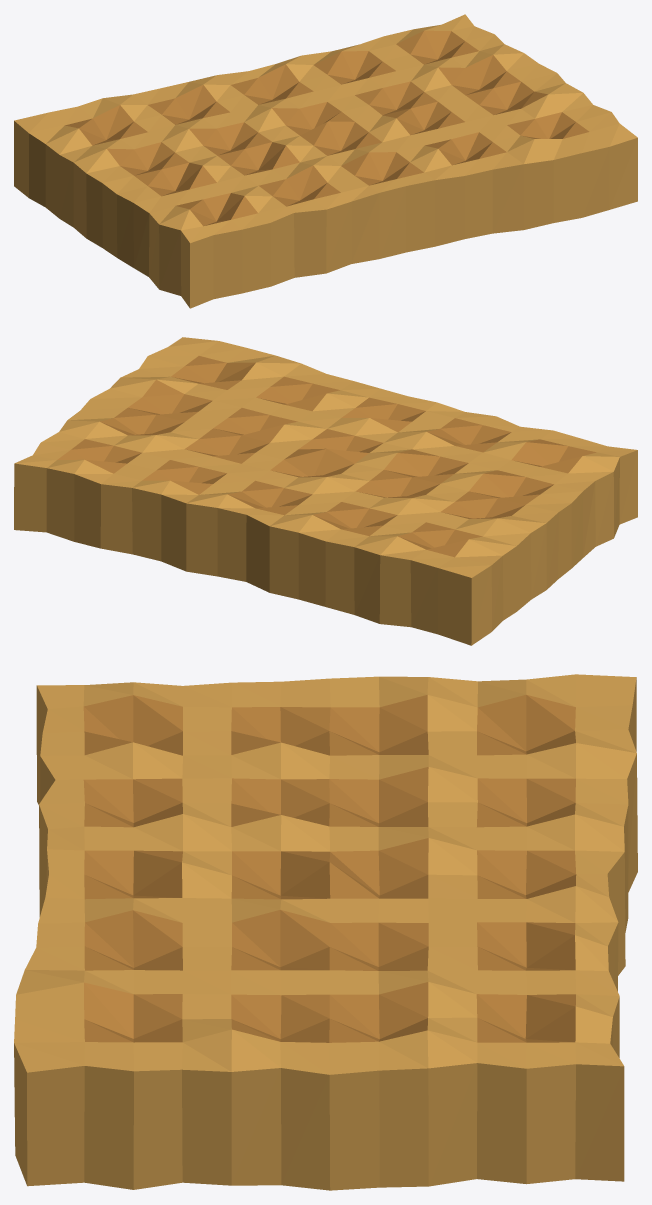
The model's file is focaccia.glb.
3 renders of one model, top to bottom at view 1: azimuth 30°, elevation 25°; view 2: azimuth 150°, elevation 25°; view 3: azimuth 270°, elevation 25°, orthographic. The views are drawn at different scales.
Size of the model in its own units: 2.08 by 0.3178 by 1.38.
